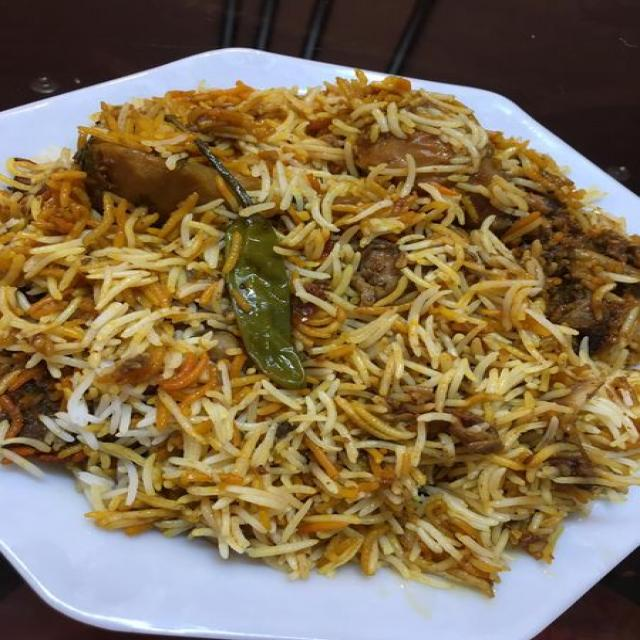Biryani: (13, 103, 633, 559)
